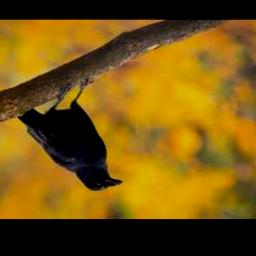Crow: (16, 76, 123, 191)
